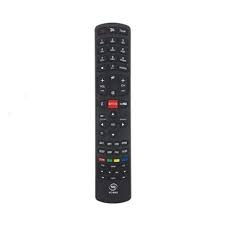remote control: (91, 20, 136, 208)
